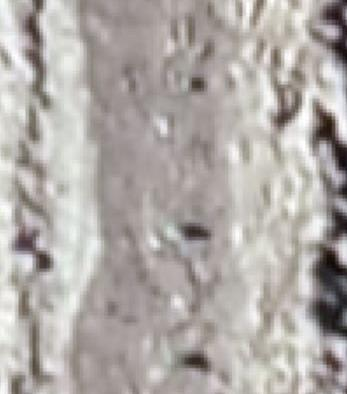cotton: (167, 225, 179, 239), (171, 354, 181, 368), (180, 79, 188, 91)
